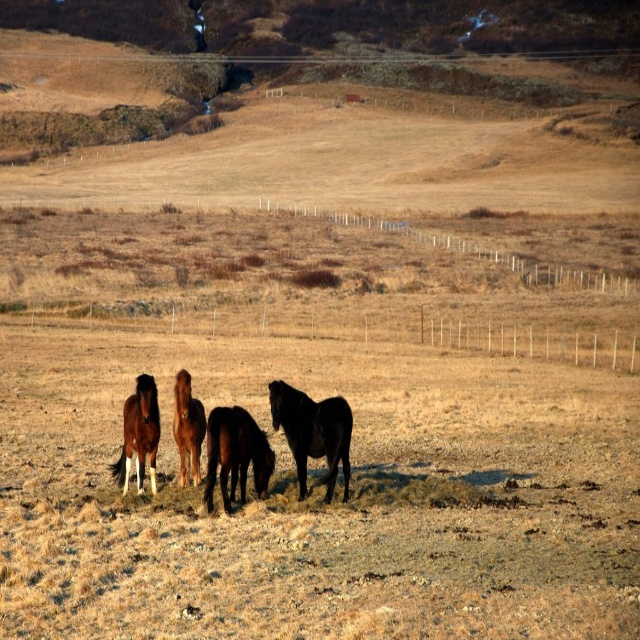Horse: (268, 379, 352, 499), (206, 404, 275, 516), (109, 373, 162, 500), (171, 367, 206, 489)
